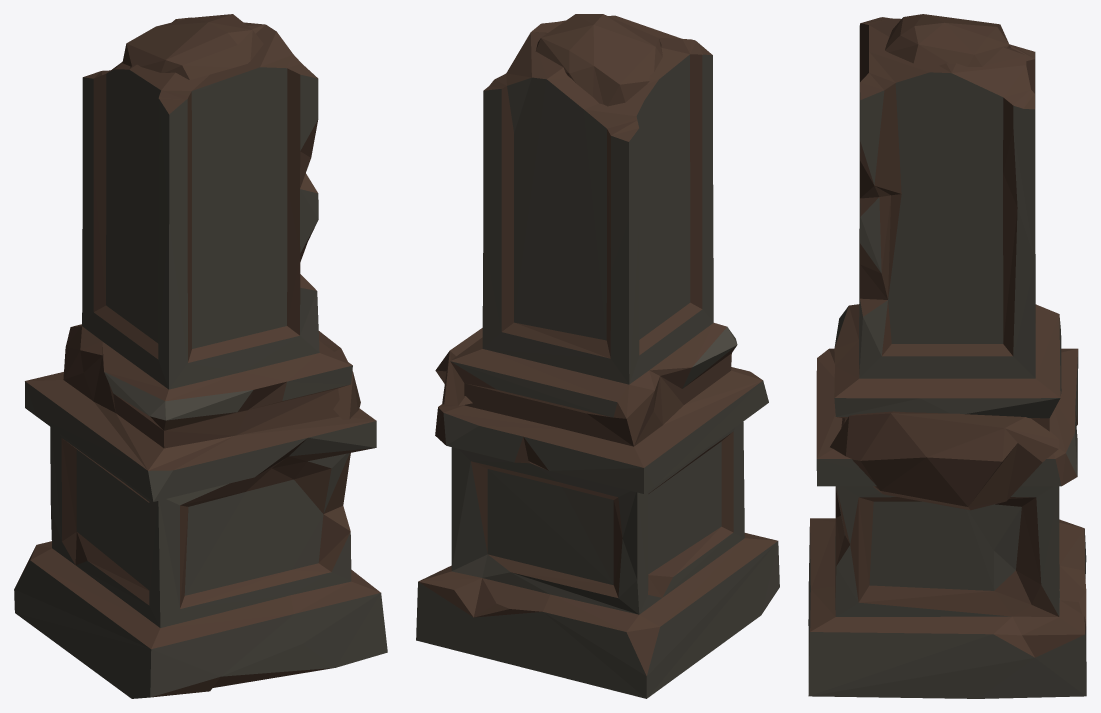
File: synty-prop-pillar-broken-moss-02.gltf
3 renders of one model, left to right at view 1: azimuth 30°, elevation 25°; view 2: azimuth 150°, elevation 25°; view 3: azimuth 270°, elevation 25°, orthographic. The views are drawn at different scales.
Parts seen in each view (by area): view 1: SM_Prop_Pillar_Broken_Moss_02; view 2: SM_Prop_Pillar_Broken_Moss_02; view 3: SM_Prop_Pillar_Broken_Moss_02.
Boxes of the visible parts, x1,y1,x2,y2 form: SM_Prop_Pillar_Broken_Moss_02: [14, 14, 387, 698]; SM_Prop_Pillar_Broken_Moss_02: [416, 14, 779, 698]; SM_Prop_Pillar_Broken_Moss_02: [808, 14, 1086, 698].
Size of the model in its own units: 0.6912 by 1.56 by 0.6337.
Materials: 1 (1 with a texture image).
